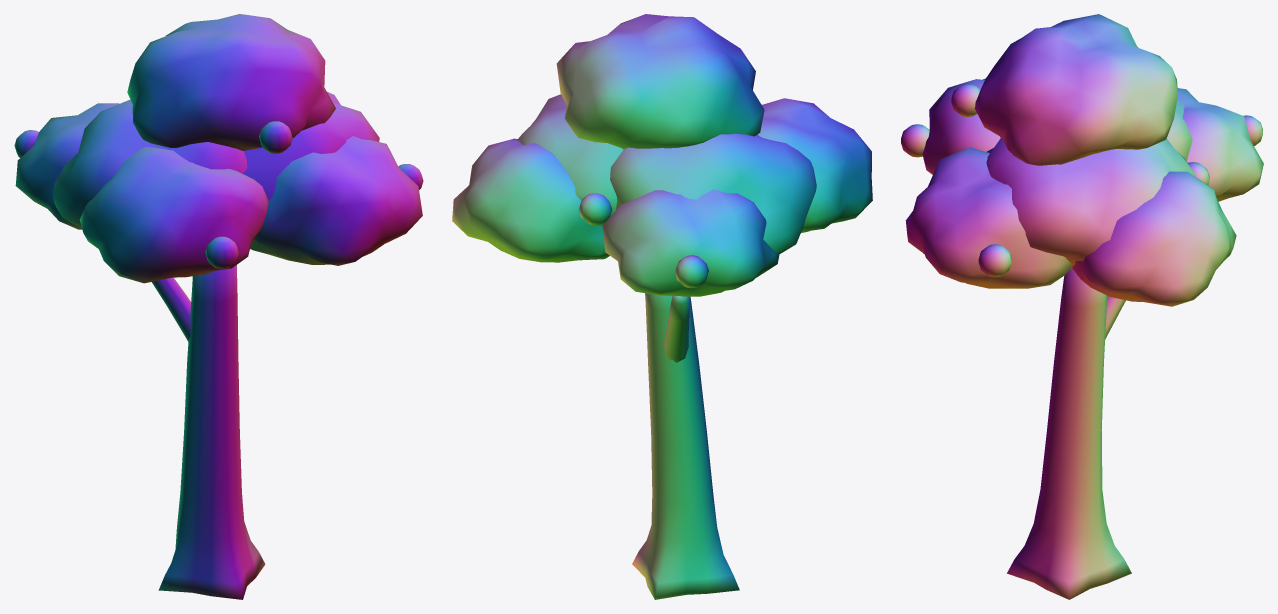
The model's file is SM_Foliage_Plains_FruitTree_B.fbx.
3 views of the same model, side by side, from view 1: azimuth 30°, elevation 25°; view 2: azimuth 150°, elevation 25°; view 3: azimuth 270°, elevation 25° (orthographic).
Visible parts, largest first — view 1: SM_Foliage_Plains_FruitTree_B; view 2: SM_Foliage_Plains_FruitTree_B; view 3: SM_Foliage_Plains_FruitTree_B.
Boxes of the visible parts, box(x1,y1,x2,y2) form: SM_Foliage_Plains_FruitTree_B: box(14, 14, 423, 599); SM_Foliage_Plains_FruitTree_B: box(452, 14, 872, 599); SM_Foliage_Plains_FruitTree_B: box(901, 14, 1263, 599).
Bounding box in the file's own units: 1.95 × 3.16 × 1.89.
